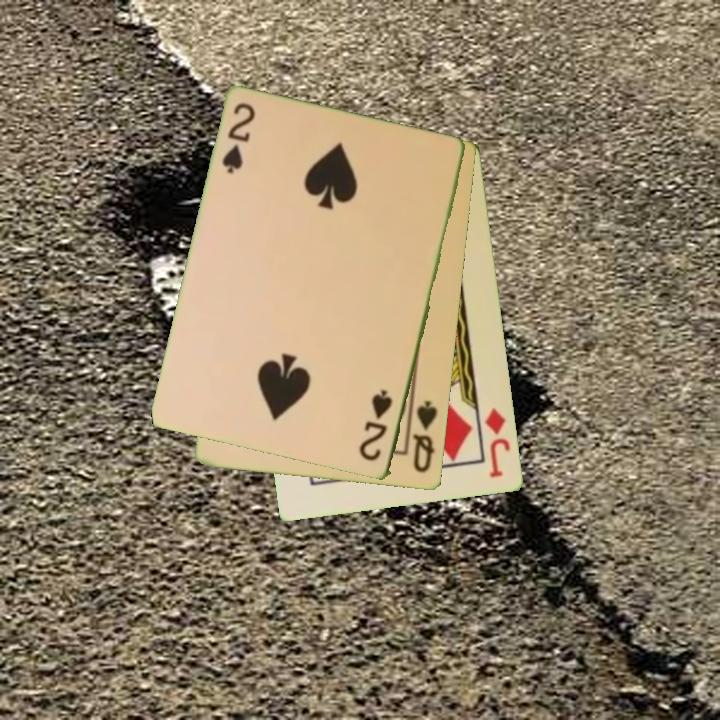2s: (356, 387, 396, 465), (219, 99, 259, 177)
Jd: (482, 404, 513, 481)
Qs: (409, 397, 441, 476)
